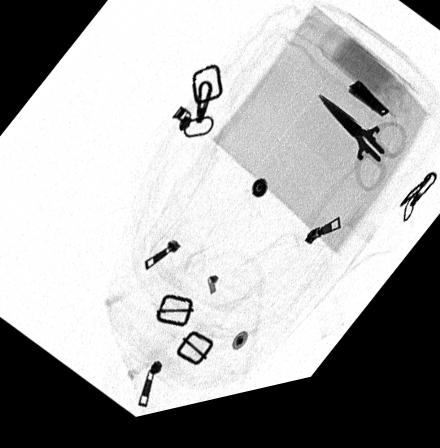Scissors: (316, 103, 407, 209)
